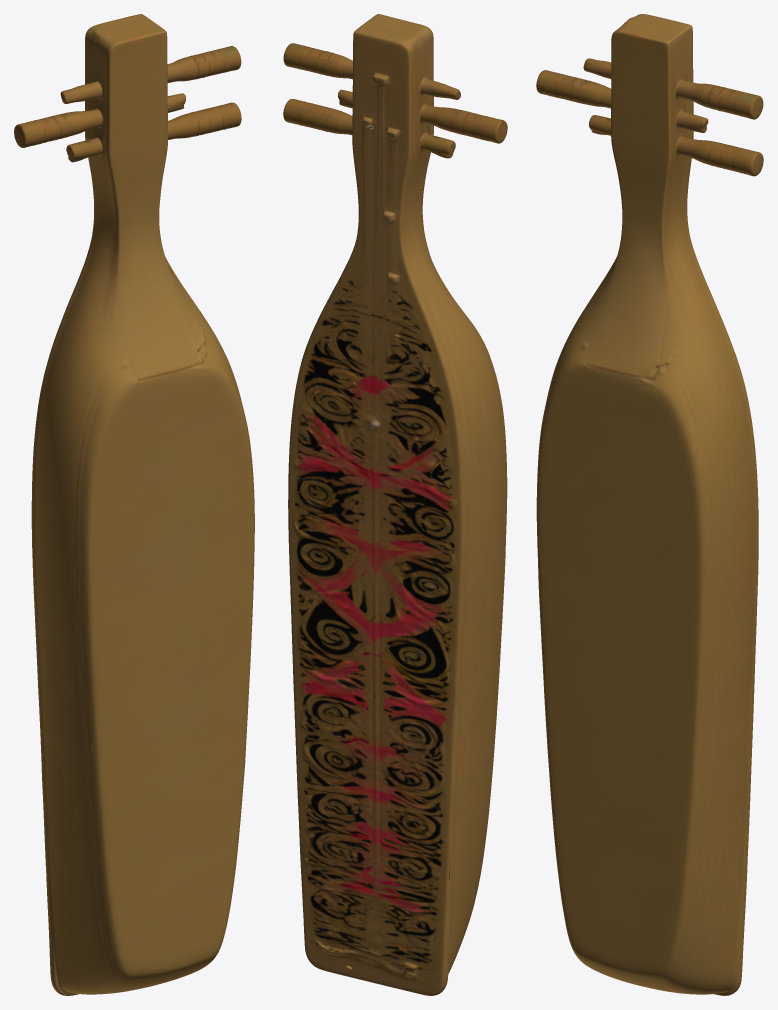
File: kalimantan-tengah.glb
3 views of the same model, side by side, from view 1: azimuth 30°, elevation 25°; view 2: azimuth 150°, elevation 25°; view 3: azimuth 330°, elevation 25° (orthographic).
Visible parts, largest first — view 1: node_0; view 2: node_0; view 3: node_0.
Part boxes in pixels (x1,y1,x2,y2): node_0: (14,14,254,995); node_0: (283,14,507,995); node_0: (536,14,763,995).
Size of the model in its own units: 0.2804 by 1.19 by 0.133.
Materials: 1 (1 with a texture image).
